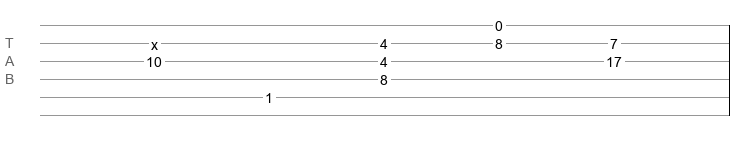0: (495, 18, 503, 28)
1: (265, 90, 273, 100)
10: (146, 54, 162, 64)
17: (606, 54, 622, 64)
4: (380, 54, 388, 64), (380, 36, 388, 46)
7: (610, 36, 618, 46)
8: (380, 72, 388, 82), (495, 36, 503, 46)
x: (151, 37, 158, 45)
